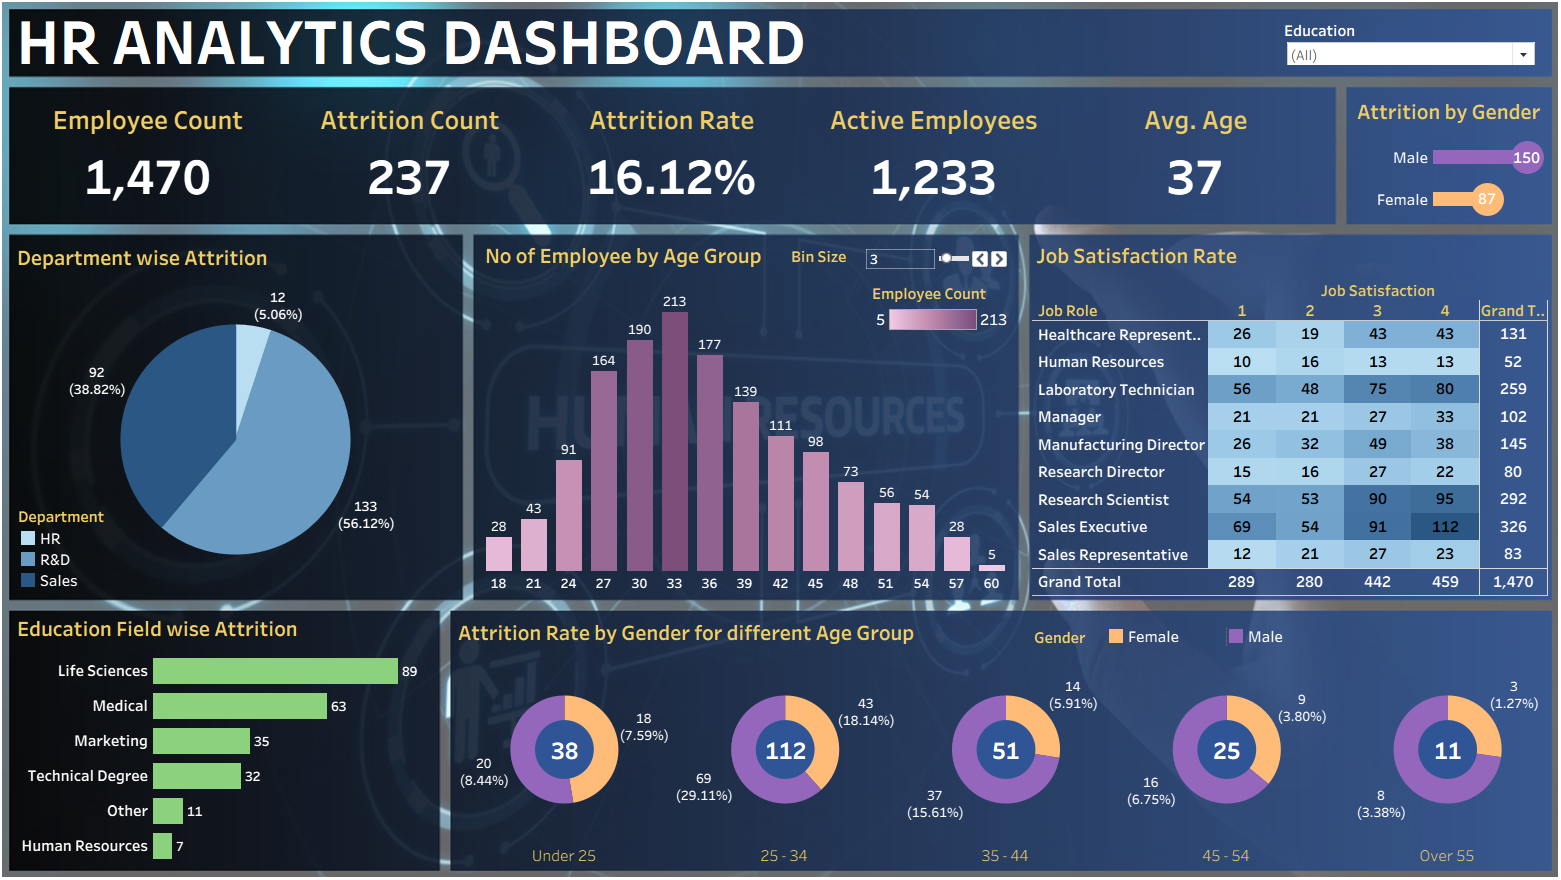

Layout of this report page (visuals, bound fields, positions):
{"tool":"tableau","page":{"name":"HR ANALYTICS DASHBOARD","canvas":[1580,900],"ordinal":0},"visuals":[{"type":"image","param":"E:/HR_Dashboard/HR background image.png","box":[8,8,1564,884]},{"type":"text","box":[23,14,868,71]},{"type":"filter","title":"Department wise Attrition","param":"[federated.00ndatn1mxd6y218yj76106spz21].[none:Education:nk]","box":[1294,30,254,45]},{"type":"worksheet","title":"Attrition by Gender","mark":"Automatic","rows":["Gender"],"cols":["Calculation_1010234110947328","Calculation_1010234110947328"],"box":[1363,103,196,127]},{"type":"worksheet","title":"KPI","mark":"Automatic","box":[27,106,1310,119]},{"type":"worksheet","title":"No of Employee by Age Group","mark":"Automatic","rows":["Employee Count"],"cols":["Age (bin)"],"box":[491,247,529,356]},{"type":"worksheet","title":"Job Satisfaction Rate","mark":"Square","rows":["Job Role"],"cols":["Job Satisfaction"],"box":[1042,247,516,359]},{"type":"worksheet","title":"Department wise Attrition","mark":"Pie","box":[23,249,445,358]},{"type":"parameter","param":"[Parameters].[Parameter 1]","box":[801,256,219,25]},{"type":"legend","title":"No of Employee by Age Group","param":"[federated.00ndatn1mxd6y218yj76106spz21].[sum:Employee Count:qk]","box":[882,293,140,48]},{"type":"legend","title":"Department wise Attrition","param":"[federated.00ndatn1mxd6y218yj76106spz21].[none:Department:nk]","box":[28,516,99,85]},{"type":"worksheet","title":"Education Field wise Attrition","mark":"Automatic","rows":["Education Field"],"cols":["Calculation_1010234110947328"],"box":[23,620,424,253]},{"type":"worksheet","title":"Attrition Rate by Gender for different Age Group","mark":"Pie","rows":["Calculation_1010234472656905","Calculation_1010234472656905"],"cols":["CF_age band"],"box":[464,624,1104,253]},{"type":"legend","title":"Attrition Rate by Gender for different Age Group","param":"[federated.00ndatn1mxd6y218yj76106spz21].[none:Gender:nk]","box":[1044,636,406,22]}]}

Visuals, with their boxes in screenshot pixels (x1, y1, x2, y2), scaled from the page's 1580x900 canvas onto the 1561x880 screenshot:
image: x1=8, y1=8, x2=1553, y2=872
text: x1=23, y1=14, x2=880, y2=83
"Department wise Attrition" filter: x1=1278, y1=29, x2=1529, y2=73
"Attrition by Gender" worksheet: x1=1347, y1=101, x2=1540, y2=225
"KPI" worksheet: x1=27, y1=104, x2=1321, y2=220
"No of Employee by Age Group" worksheet: x1=485, y1=242, x2=1008, y2=590
"Job Satisfaction Rate" worksheet (Square marks): x1=1029, y1=242, x2=1539, y2=593
"Department wise Attrition" worksheet (Pie marks): x1=23, y1=243, x2=462, y2=594
parameter: x1=791, y1=250, x2=1008, y2=275
"No of Employee by Age Group" legend: x1=871, y1=286, x2=1010, y2=333
"Department wise Attrition" legend: x1=28, y1=505, x2=125, y2=588
"Education Field wise Attrition" worksheet: x1=23, y1=606, x2=442, y2=854
"Attrition Rate by Gender for different Age Group" worksheet (Pie marks): x1=458, y1=610, x2=1549, y2=858
"Attrition Rate by Gender for different Age Group" legend: x1=1031, y1=622, x2=1433, y2=643
